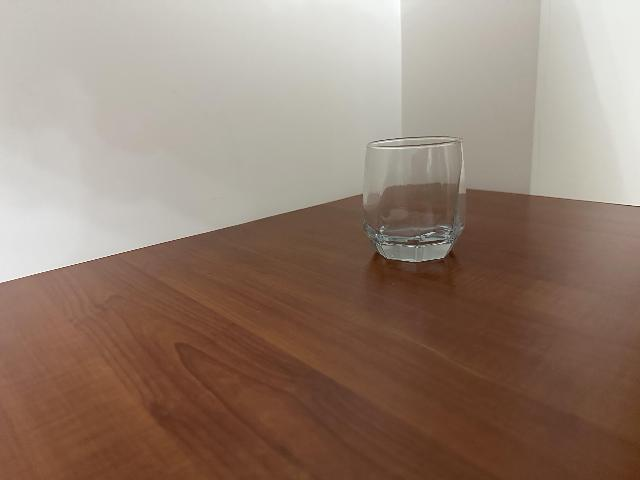Cam: (360, 130, 471, 267)
